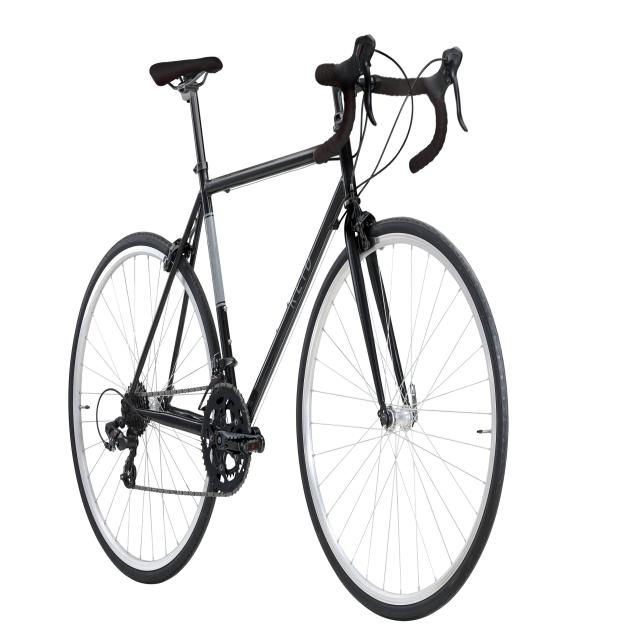road-bike: (68, 34, 509, 622)
